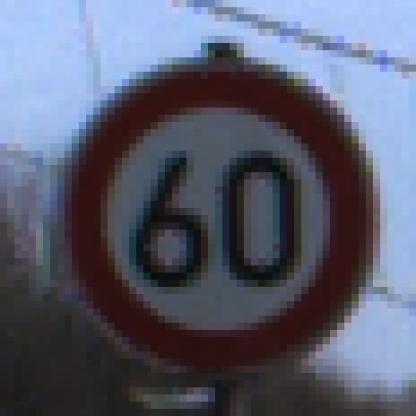Speed Limit 60: (74, 72, 362, 363)
